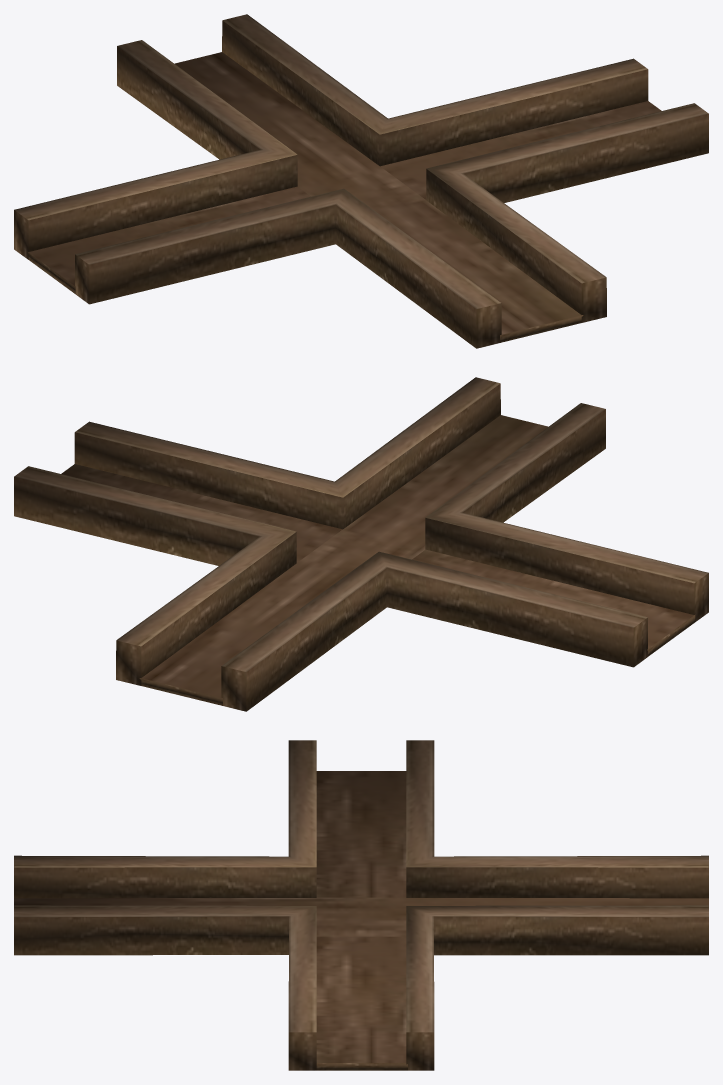
The model's file is C5_WaterWagon_Batten01.FBX.
3 renders of one model, top to bottom at view 1: azimuth 30°, elevation 25°; view 2: azimuth 150°, elevation 25°; view 3: azimuth 270°, elevation 25°, orthographic. The views are drawn at different scales.
Parts seen in each view (by area): view 1: C5_WaterWagon_Batten01; view 2: C5_WaterWagon_Batten01; view 3: C5_WaterWagon_Batten01.
Boxes of the visible parts, x1,y1,x2,y2 form: C5_WaterWagon_Batten01: (14, 14, 708, 348); C5_WaterWagon_Batten01: (14, 377, 708, 711); C5_WaterWagon_Batten01: (14, 740, 708, 1070).
Bounding box in the file's own units: 166 × 10.1 × 166.
